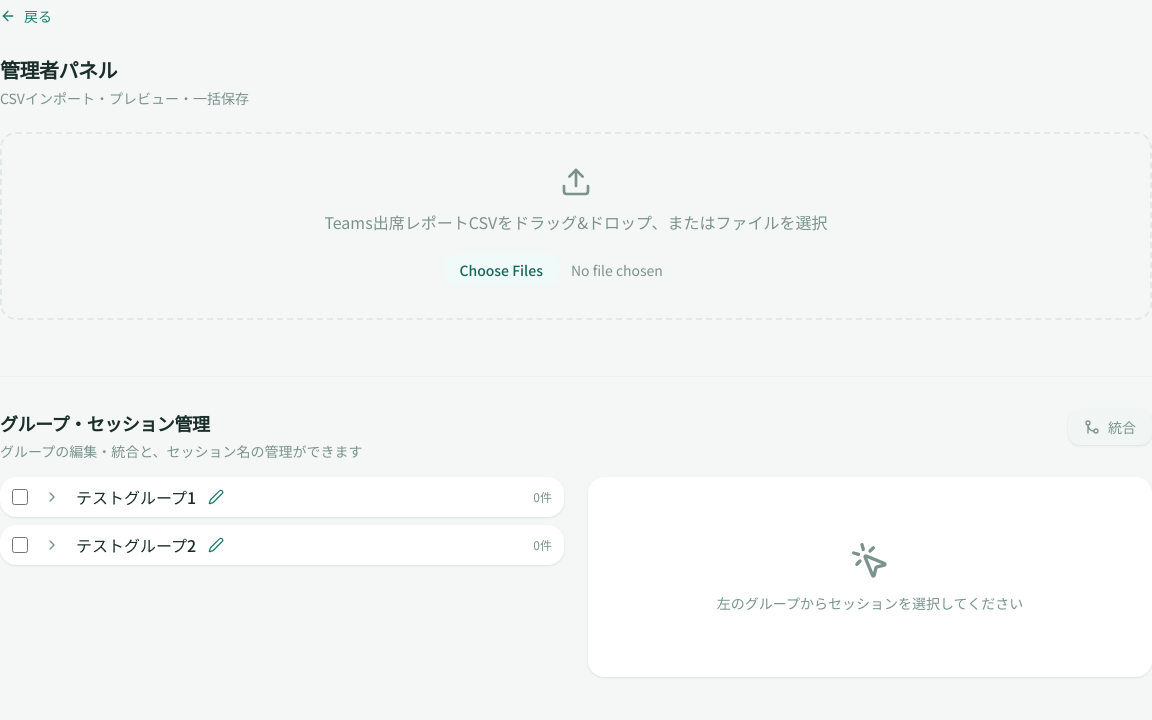
Test: AdminPage — グループ管理セクション › 統合ダイアログで統合先未選択時は統合実行ボタンが無効になる
The width and height of the screenshot is (1152, 720).
Click the checkbox named "テストグループ1 を選択": (20, 497) [12,489,28,505]
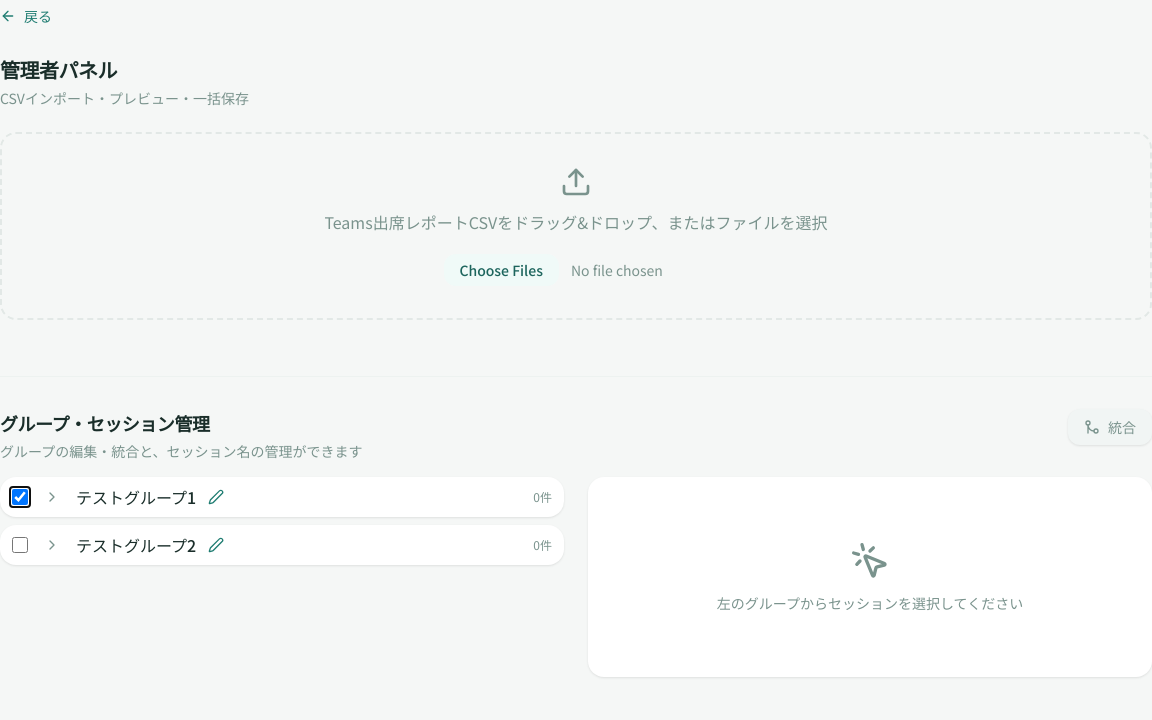
Click the checkbox named "テストグループ2 を選択": (20, 545) [12,537,28,553]
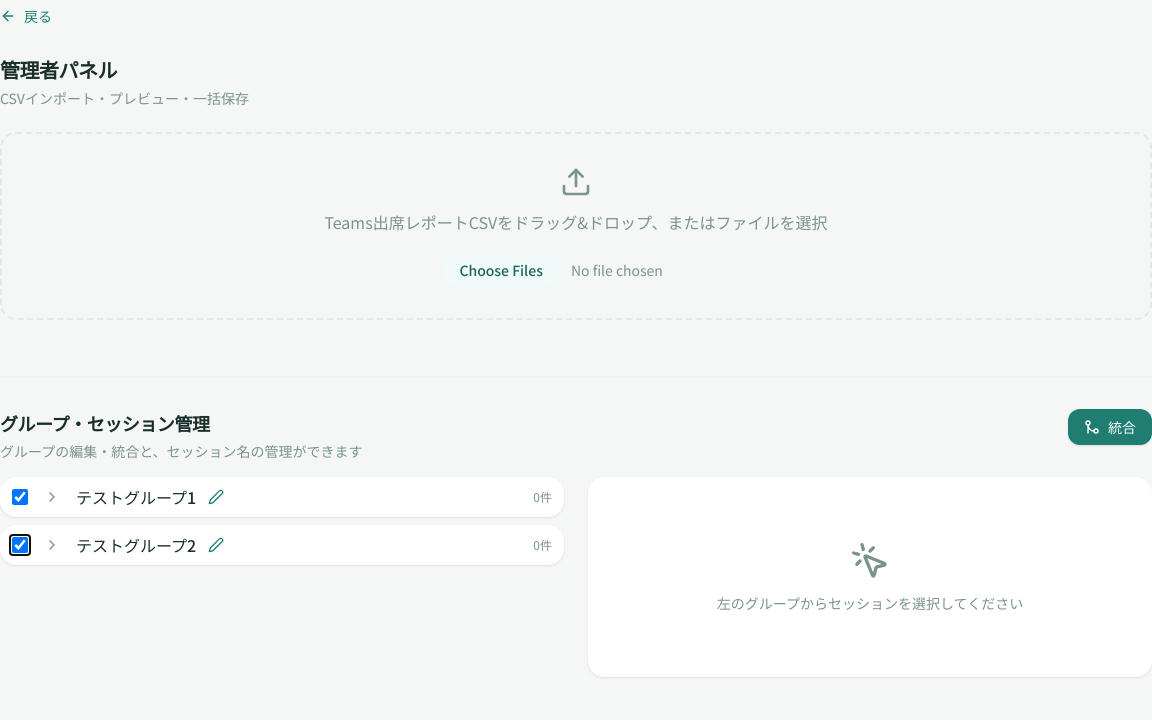
Click the button "統合": (1110, 427) [1068,409,1151,445]
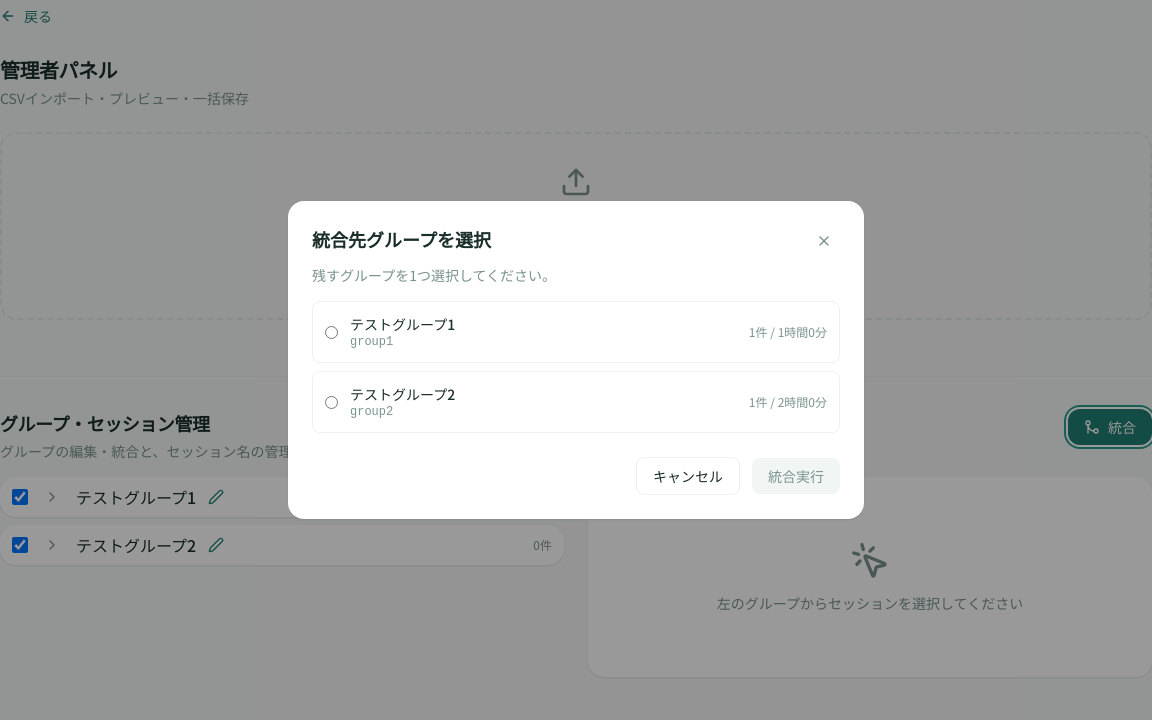
Expected: the dialog is shown, [288,201,864,519]
Expected: the button "統合実行" is disabled, [752,458,840,494]
Click the radio button labelled "テストグループ1 group1 1件 / 1時間0分": (332, 332) [325,326,338,338]
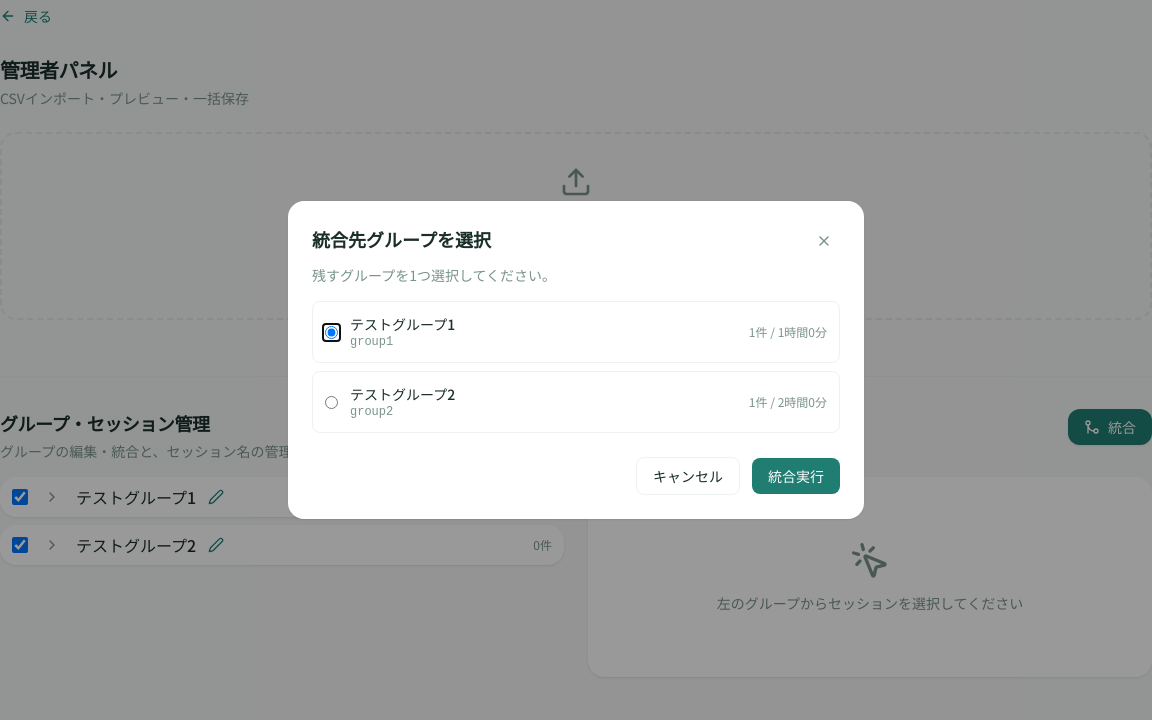
Expected: the button "統合実行" is enabled, [752,458,840,494]
